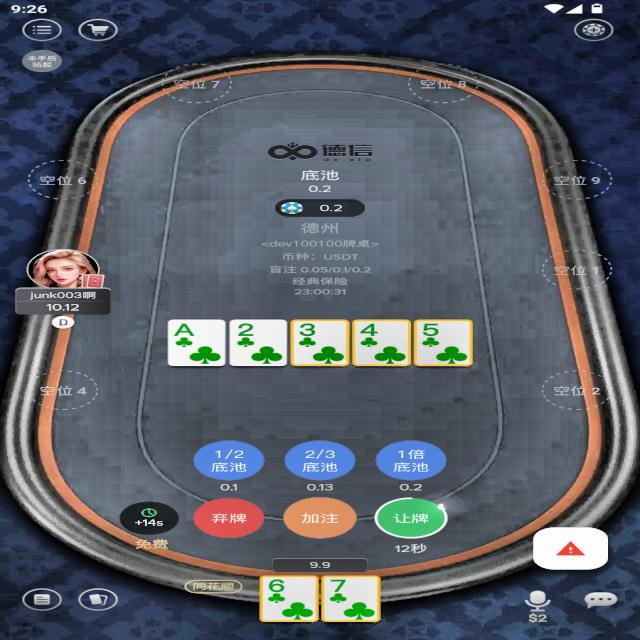2m: (234, 322, 259, 338)
3m: (294, 322, 324, 338)
4m: (358, 322, 382, 338)
5m: (418, 322, 448, 338)
6m: (264, 577, 291, 594)
7m: (326, 577, 350, 594)
Am: (171, 321, 198, 338)
